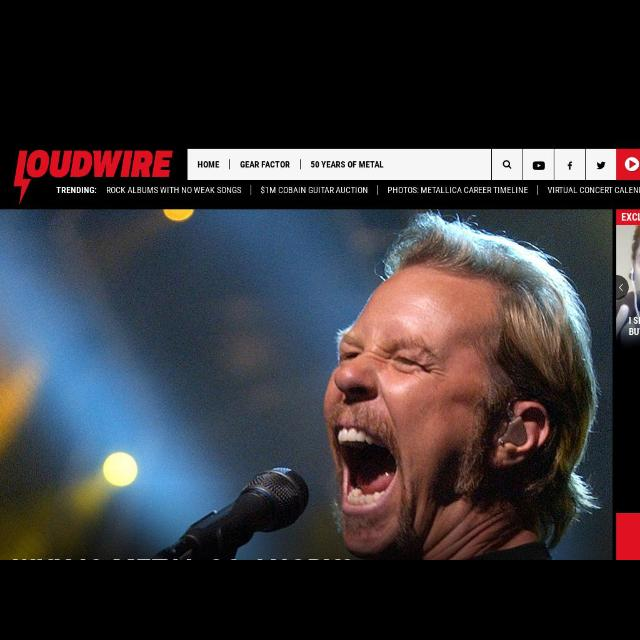button: (522, 148, 554, 180), (553, 148, 585, 180), (492, 148, 522, 180), (585, 149, 615, 179)
icon: (625, 156, 639, 172), (533, 162, 545, 170), (503, 160, 512, 170), (596, 161, 606, 169), (568, 162, 572, 170)
image: (1, 210, 612, 558), (14, 150, 172, 204)
multitab: (188, 147, 492, 179)
text: (388, 186, 528, 194), (106, 186, 242, 194), (260, 186, 368, 194), (547, 186, 639, 194), (312, 162, 384, 168), (56, 187, 98, 195), (242, 162, 290, 168), (198, 160, 220, 168)
toolbar: (1, 80, 640, 206)
